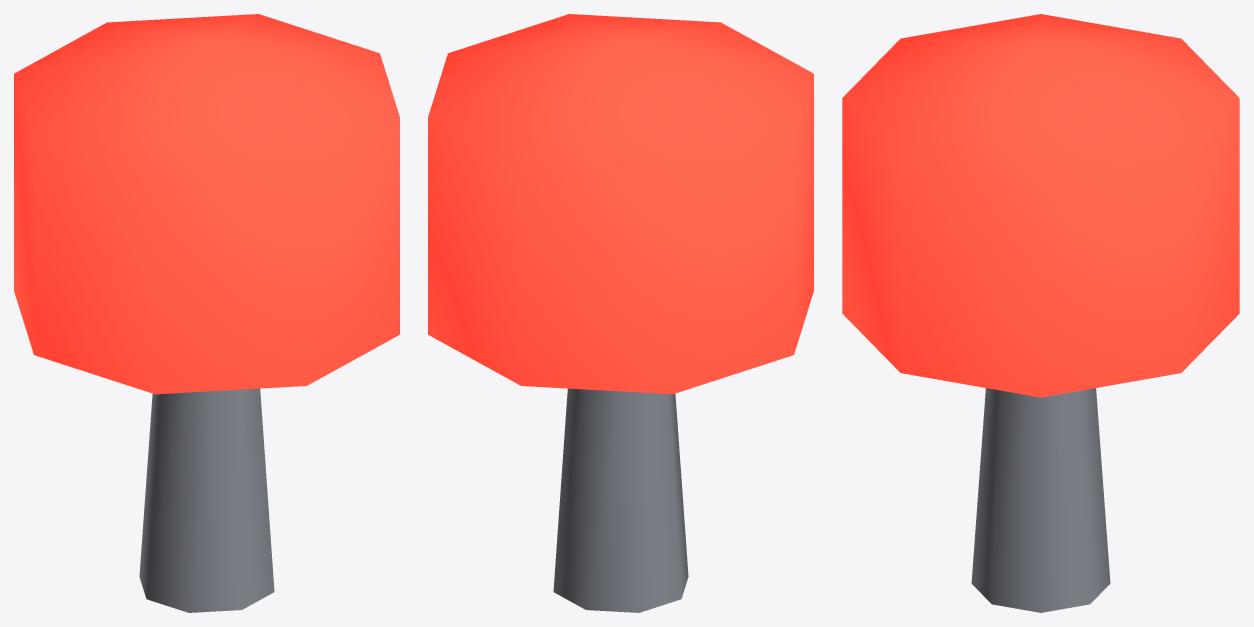
The model's file is Kit_RoofLight.glb.
The picture shows the model from 3 angles, left to right: view 1: azimuth 30°, elevation 25°; view 2: azimuth 150°, elevation 25°; view 3: azimuth 270°, elevation 25°; orthographic projection.
Parts seen in each view (by area): view 1: Kit_RoofLight; view 2: Kit_RoofLight; view 3: Kit_RoofLight.
Boxes of the visible parts, left/top/right/bottom form: Kit_RoofLight: left=14, top=14, right=399, bottom=612; Kit_RoofLight: left=428, top=14, right=813, bottom=612; Kit_RoofLight: left=842, top=14, right=1239, bottom=612.
Bounding box in the file's own units: 2 × 3 × 2.
